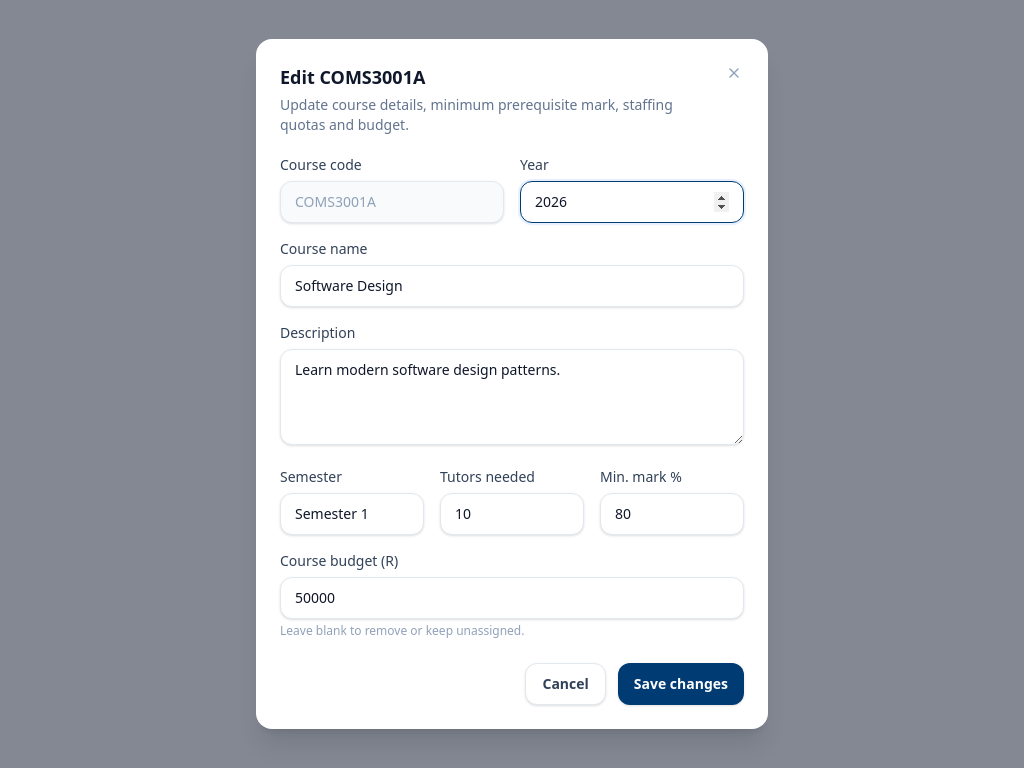
Test: EditCourseModal › validates required fields and percentage ranges
This screenshot has width=1024, height=768.
Replace the text in the number field labelled "Min. mark %" with "120". click: (672, 514)
box: [600,493,744,535]
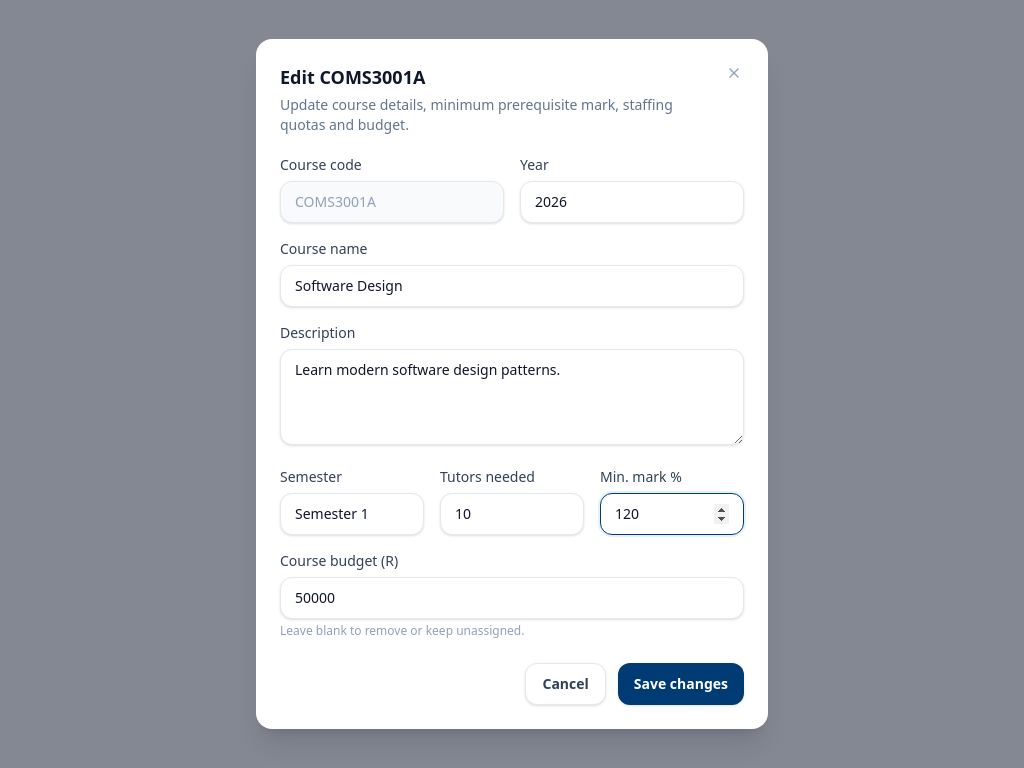
Click the button "Save changes". click: (681, 684)
box: [618,663,744,705]
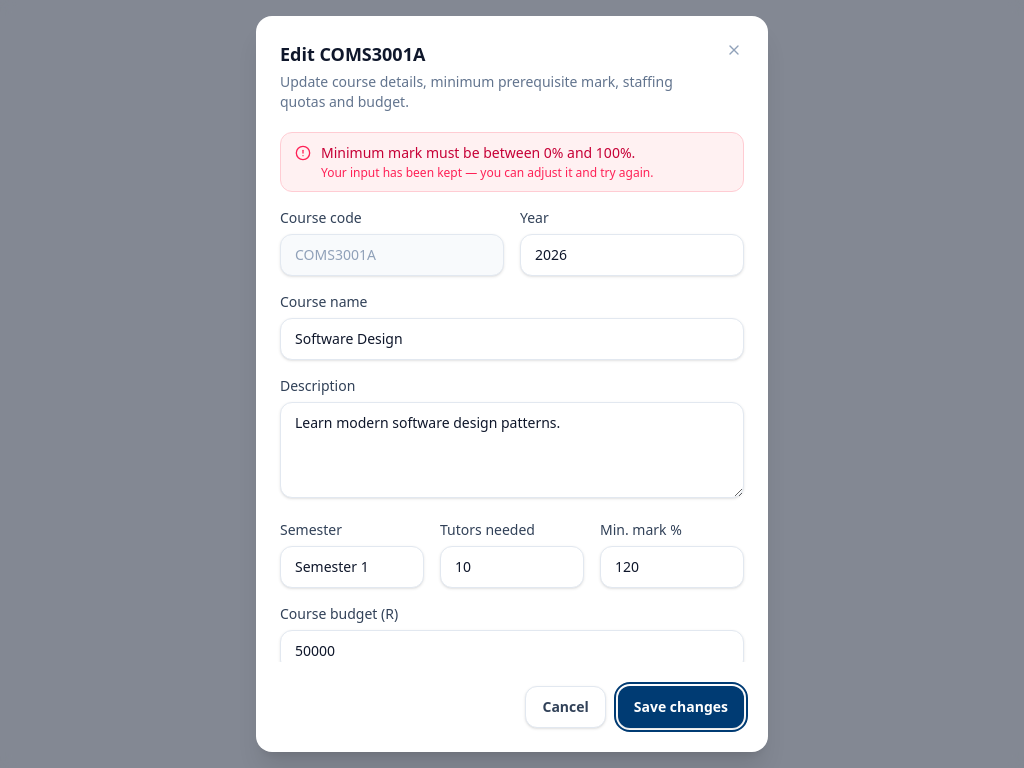
Result: the message shows "Minimum mark must be between 0% and 100%." at [321,143,635,162]
Clear the field labelled "Course name". click: (512, 339)
box: [280,318,744,360]
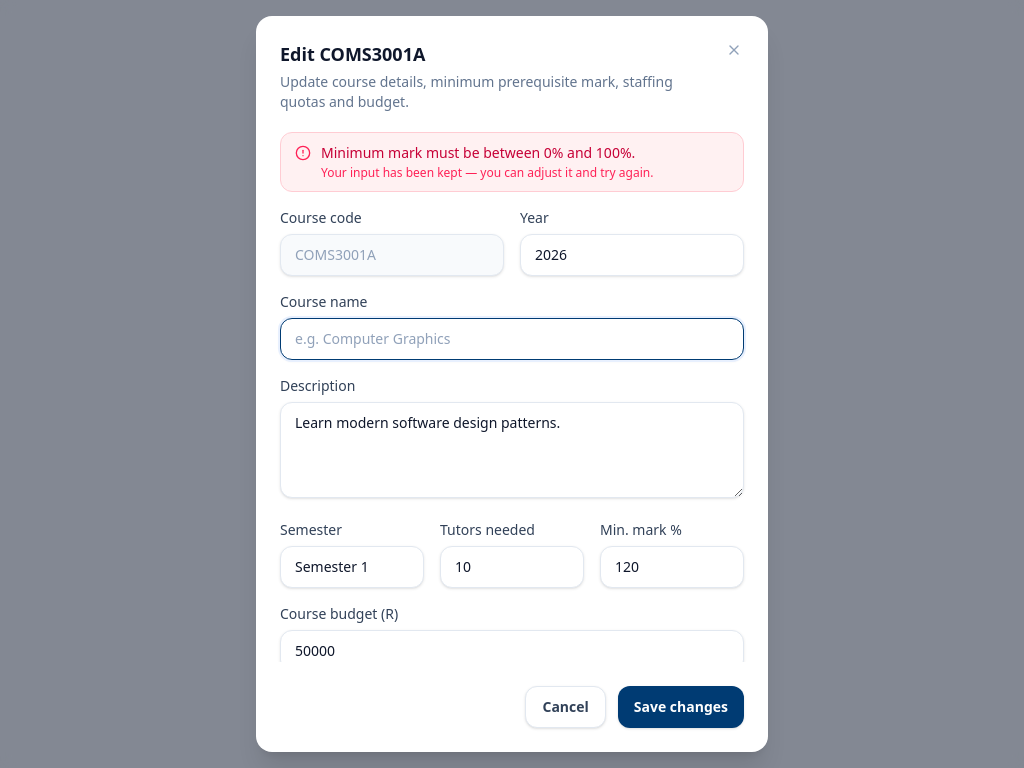
Replace the text in the number field labelled "Min. mark %" with "75". click: (672, 567)
box: [600,546,744,588]
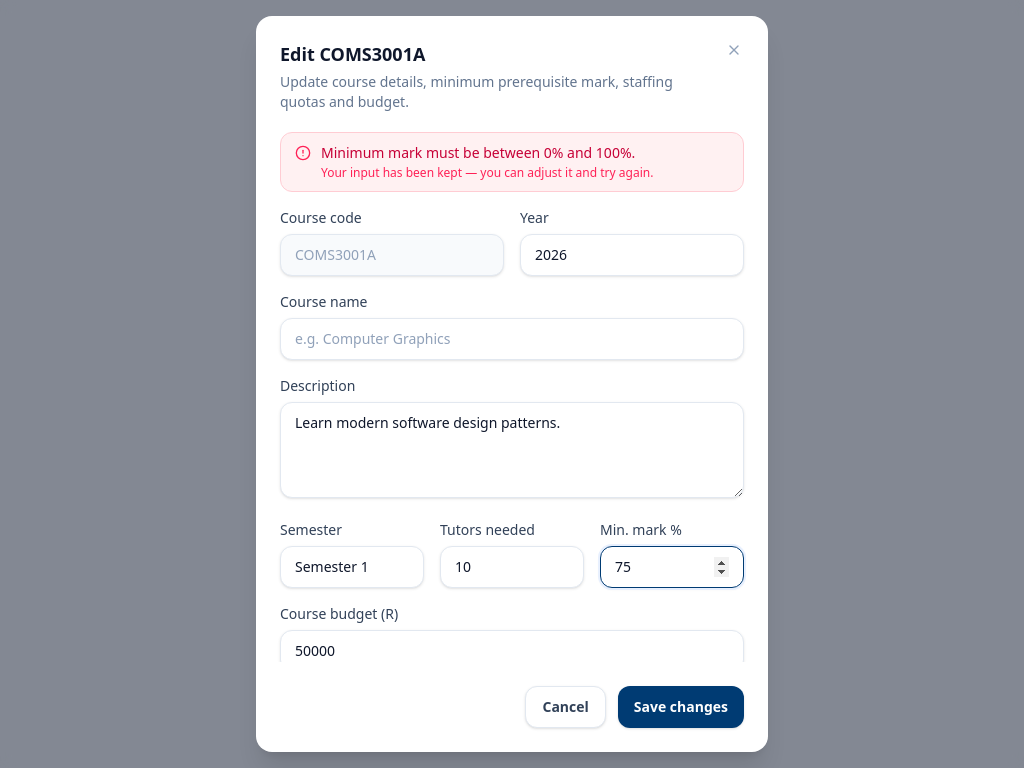
Click the button "Save changes". click: (681, 707)
box: [618,686,744,728]
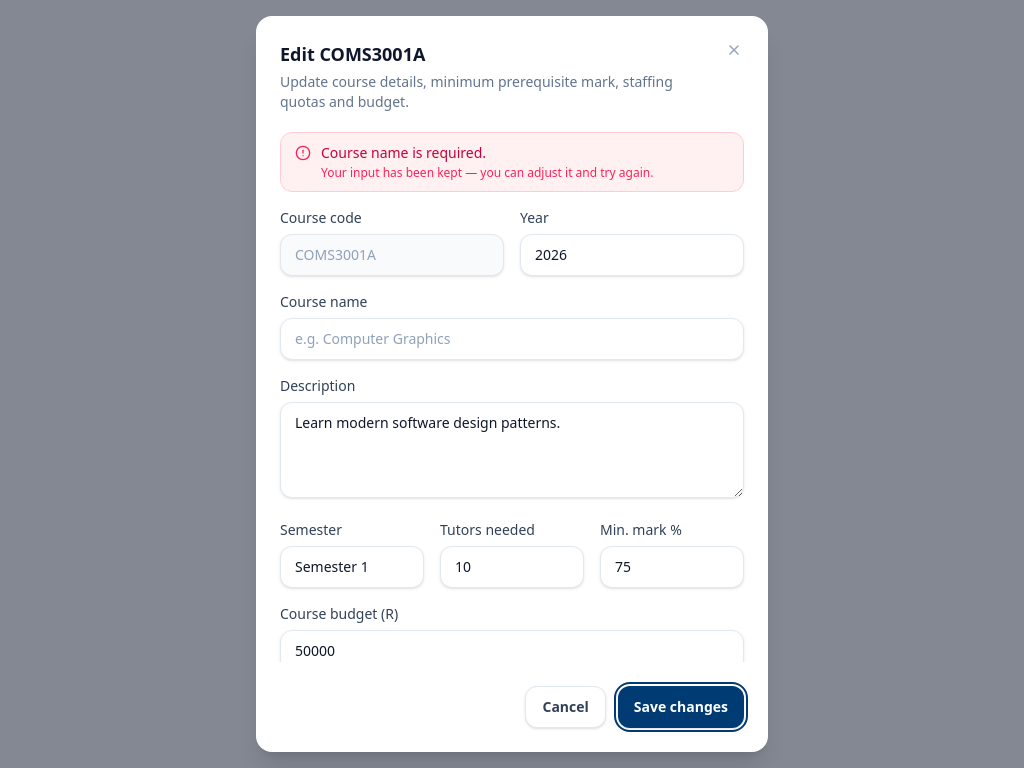
Result: the message shows "Course name is required." at [321,143,486,162]
